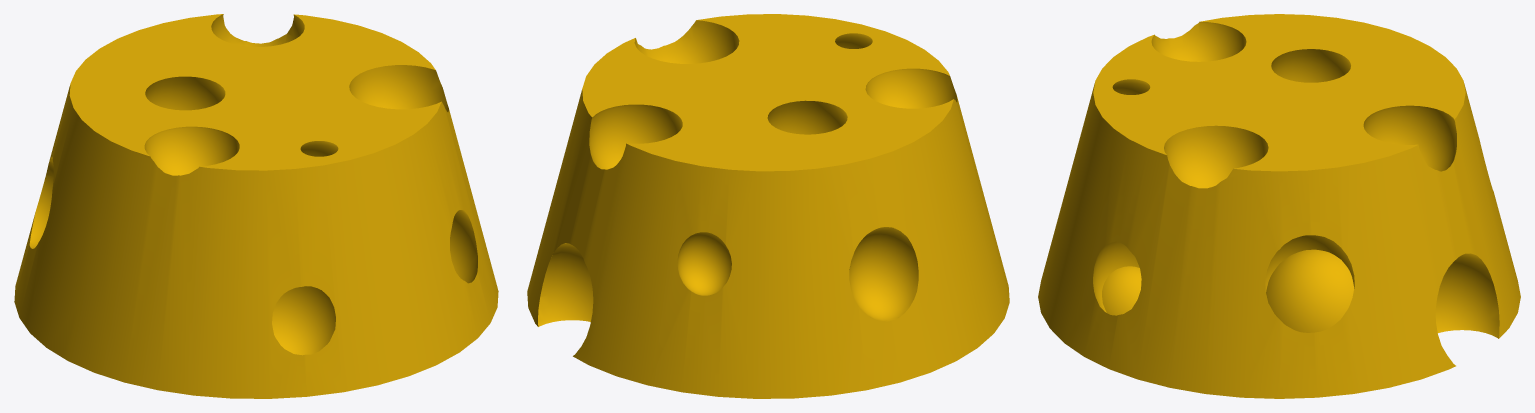
The model's file is SwissCheeseFBX.fbx.
3 renders of one model, left to right at view 1: azimuth 30°, elevation 25°; view 2: azimuth 150°, elevation 25°; view 3: azimuth 270°, elevation 25°, orthographic.
Parts seen in each view (by area): view 1: Goat cheese02; view 2: Goat cheese02; view 3: Goat cheese02.
Boxes of the visible parts, x1,y1,x2,y2 form: Goat cheese02: (14, 14, 498, 398); Goat cheese02: (527, 14, 1009, 398); Goat cheese02: (1038, 14, 1520, 398).
Size of the model in its own units: 15 by 7 by 15.
